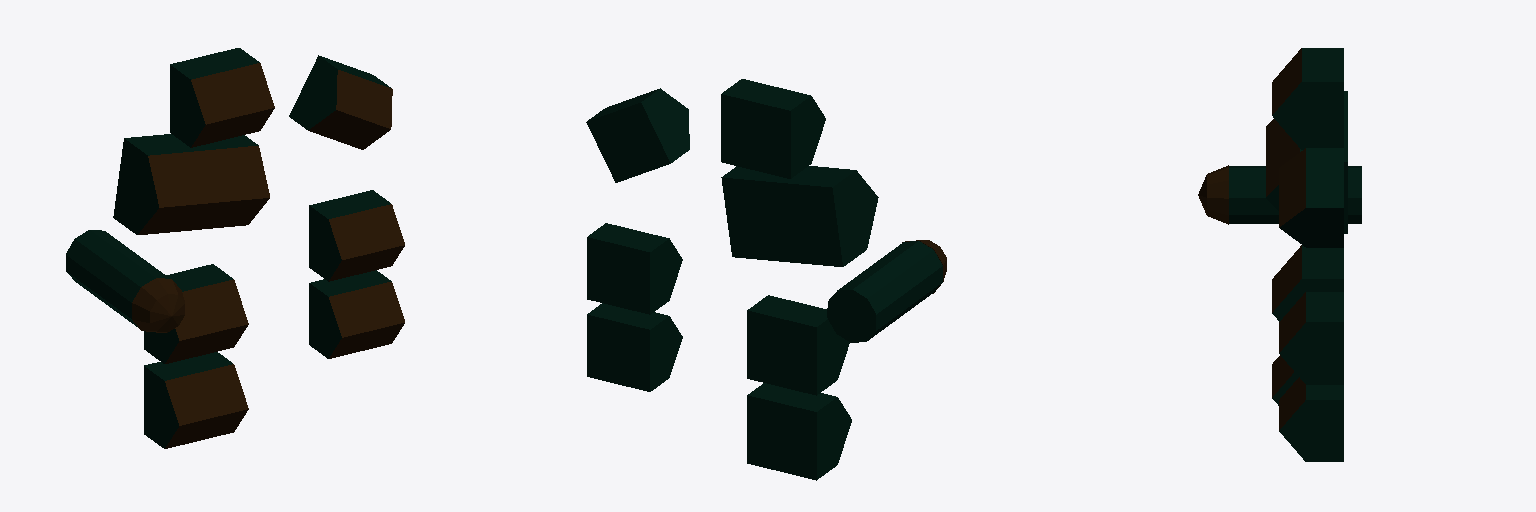
The model's file is city_1_0.obj.
3 views of the same model, side by side, from view 1: azimuth 30°, elevation 25°; view 2: azimuth 150°, elevation 25°; view 3: azimuth 270°, elevation 25° (orthographic).
Visible parts, largest first — view 1: Sphere; view 2: Sphere; view 3: Sphere.
Boxes of the visible parts, x1=… form: Sphere: x1=66, y1=48, x2=404, y2=448; Sphere: x1=586, y1=79, x2=946, y2=480; Sphere: x1=1198, y1=48, x2=1361, y2=461.
Bounding box in the file's own units: 1.38 × 1.6 × 0.6563.